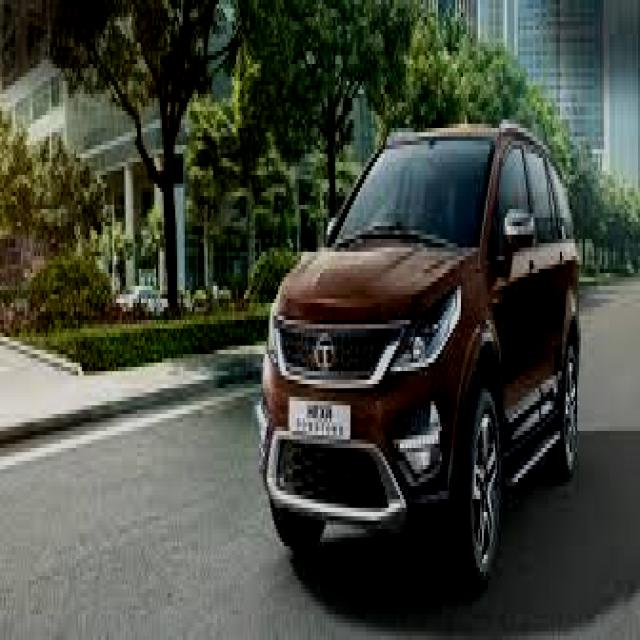SUV: (256, 121, 582, 590)
